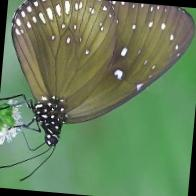butterfly: (11, 0, 194, 146)
